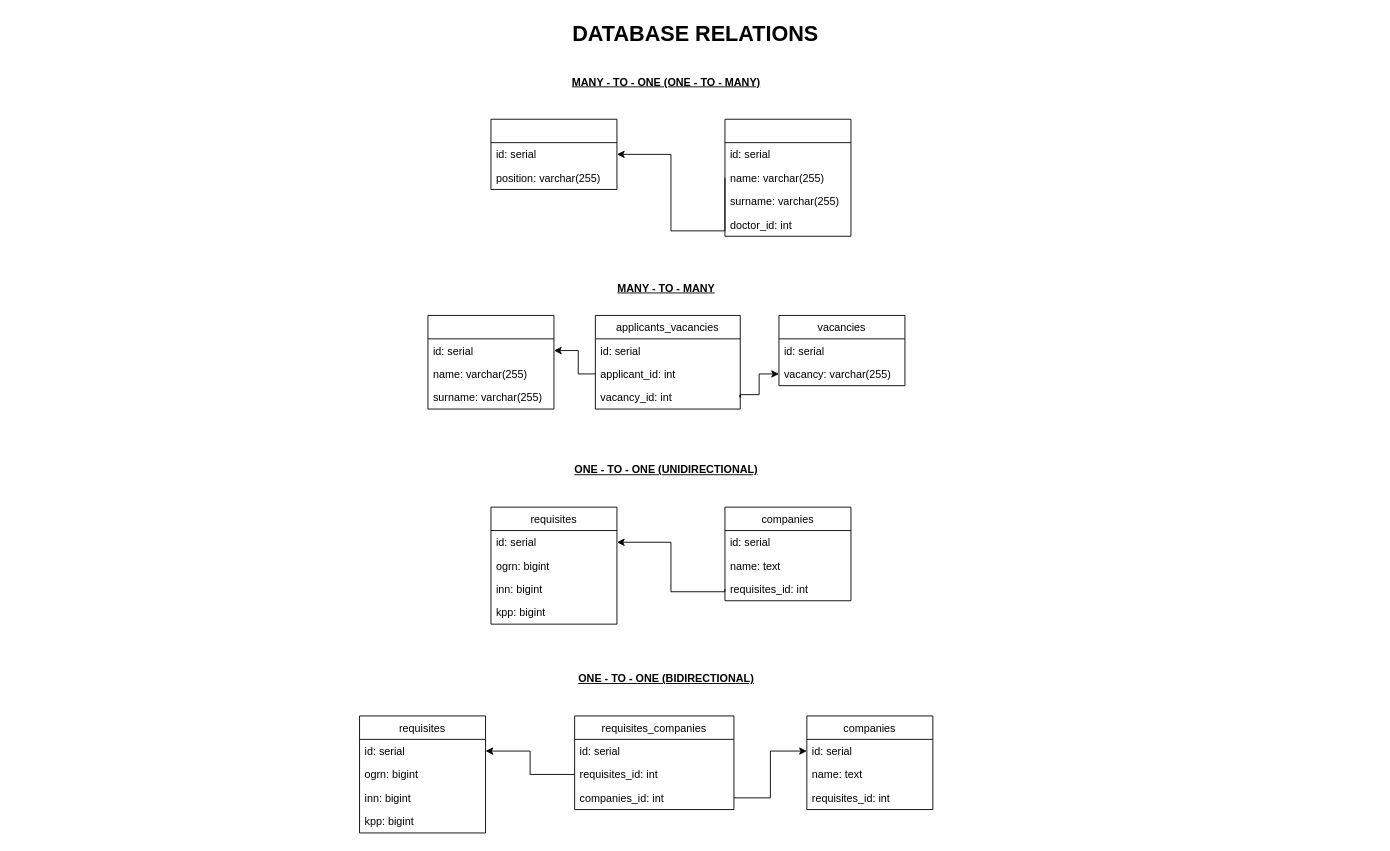
The diagram is 1390 pixels wide and 851 high, and some of its shapes have lost their labels. Each missing label, with the box of its shape:
applicants: (427, 315, 554, 409)
doctor: (490, 118, 617, 189)
patients: (724, 118, 851, 236)
